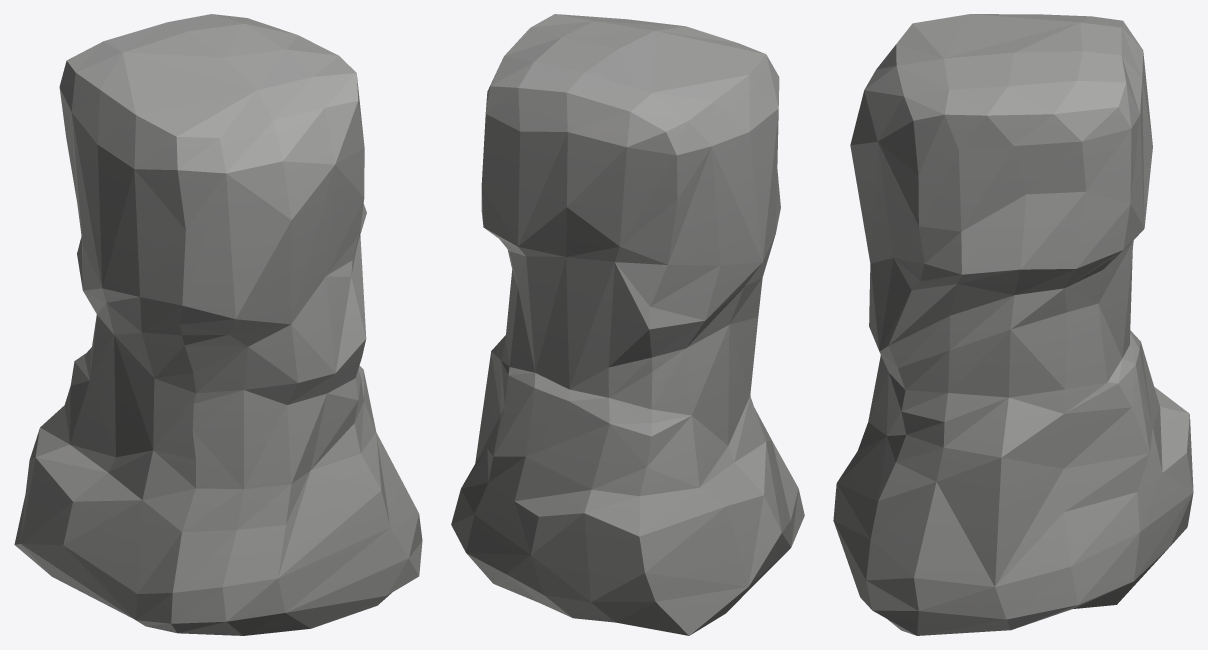
File: Cavern_Wall_Corner_Sml-02.fbx
3 renders of one model, left to right at view 1: azimuth 30°, elevation 25°; view 2: azimuth 150°, elevation 25°; view 3: azimuth 270°, elevation 25°, orthographic.
Parts seen in each view (by area): view 1: Cavern_Wall_Corner_Sml-02; view 2: Cavern_Wall_Corner_Sml-02; view 3: Cavern_Wall_Corner_Sml-02.
Boxes of the visible parts, x1,y1,x2,y2 form: Cavern_Wall_Corner_Sml-02: [14, 14, 422, 635]; Cavern_Wall_Corner_Sml-02: [451, 14, 804, 635]; Cavern_Wall_Corner_Sml-02: [833, 14, 1193, 635].
Size of the model in its own units: 849 by 1336 by 820.
1 material, 1 textured.
